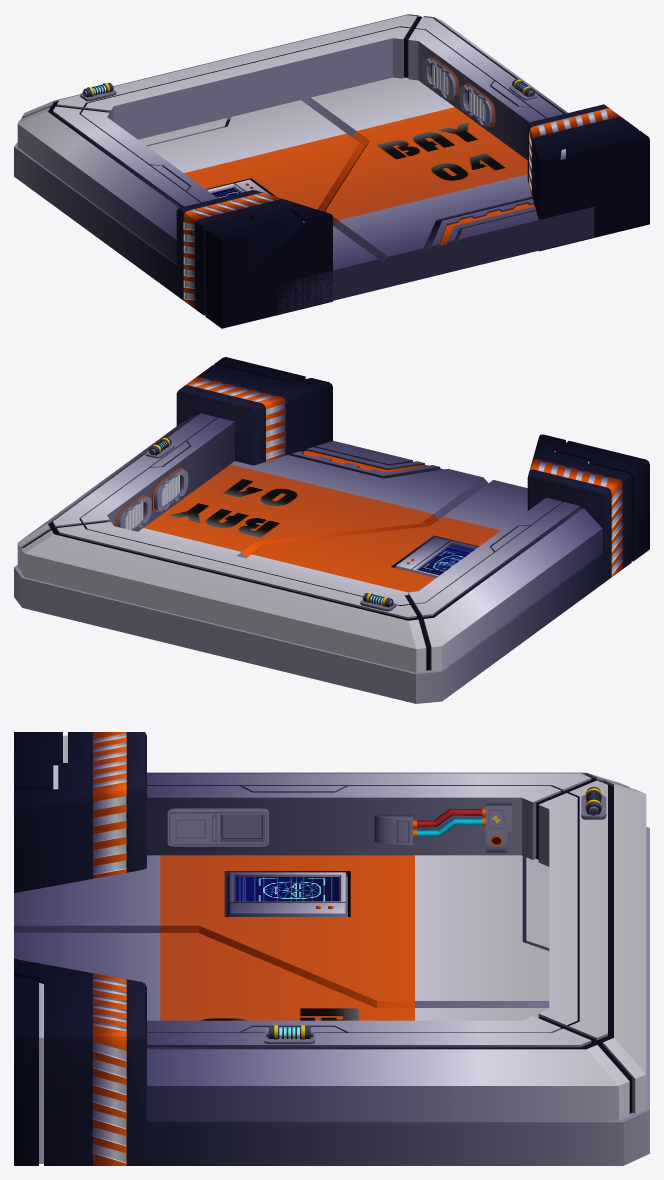
File: Door_Lv1.fbx
The picture shows the model from 3 angles, top to bottom: view 1: azimuth 30°, elevation 25°; view 2: azimuth 150°, elevation 25°; view 3: azimuth 270°, elevation 25°; orthographic projection. The views are drawn at different scales.
Parts seen in each view (by area): view 1: Door_Retex; view 2: Door_Retex; view 3: Door_Retex.
Boxes of the visible parts, box(x1,y1,x2,y2) form: Door_Retex: box(14, 14, 649, 328); Door_Retex: box(14, 357, 649, 703); Door_Retex: box(14, 732, 649, 1165).
Bounding box in the file's own units: 204 × 40.47 × 179.
Materials: 2 (2 with a texture image).
